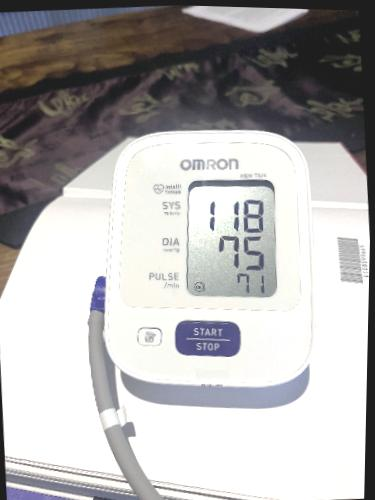bpm: (183, 179, 275, 299)
